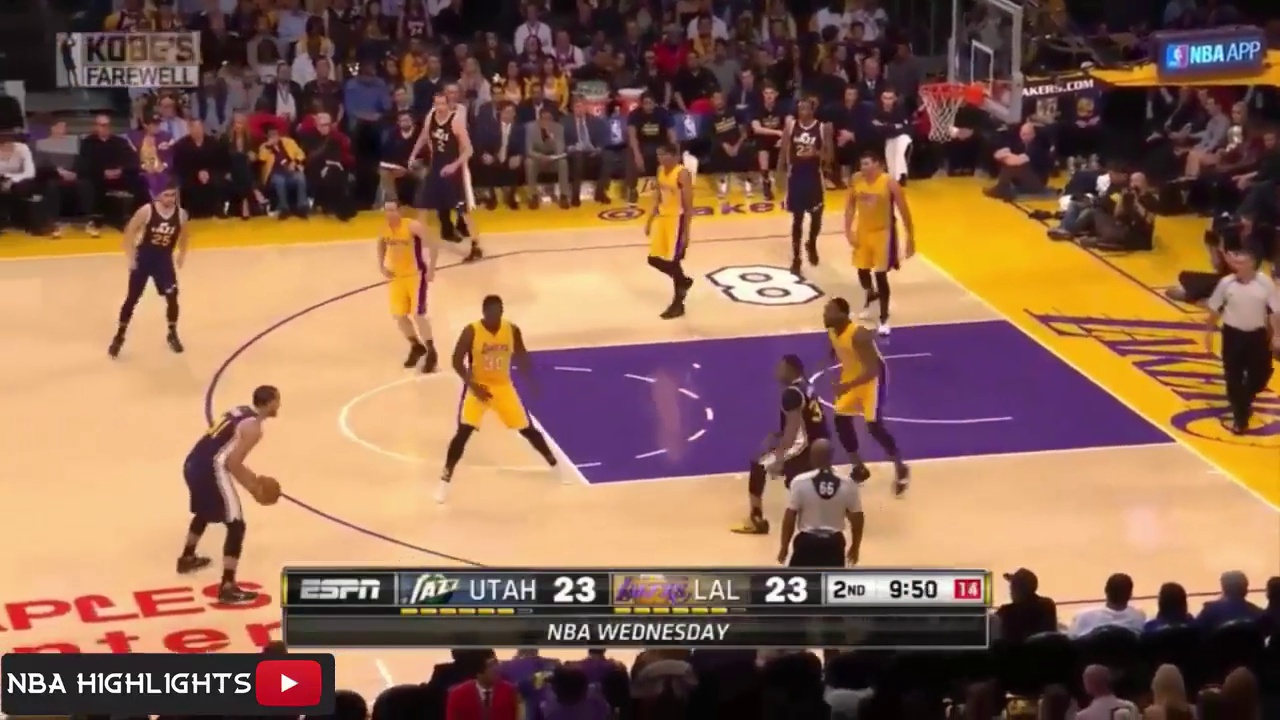jazz: (183, 388, 289, 598), (726, 354, 819, 535), (105, 181, 195, 360), (778, 96, 839, 271), (419, 103, 487, 257)
lakers: (428, 292, 557, 507), (813, 302, 923, 496), (366, 197, 445, 368), (847, 149, 913, 334), (645, 146, 695, 320)
